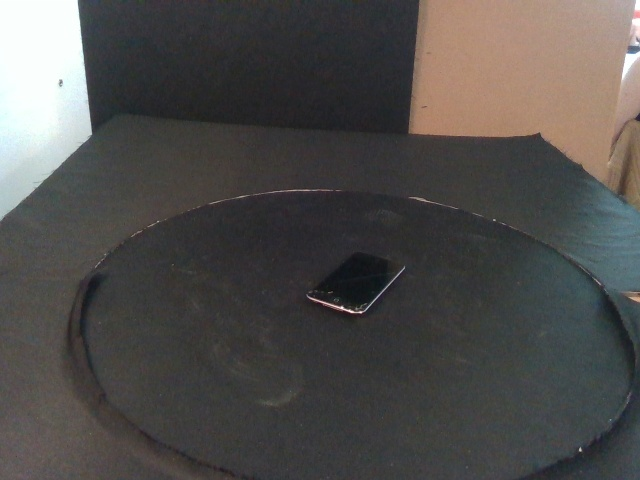phone: (306, 251, 406, 315)
